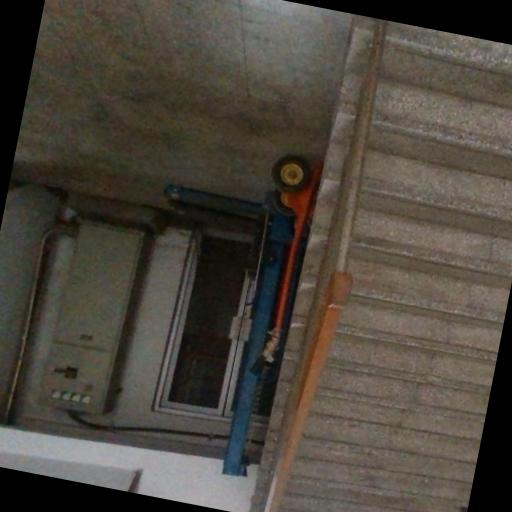stairs: (277, 21, 511, 511)
